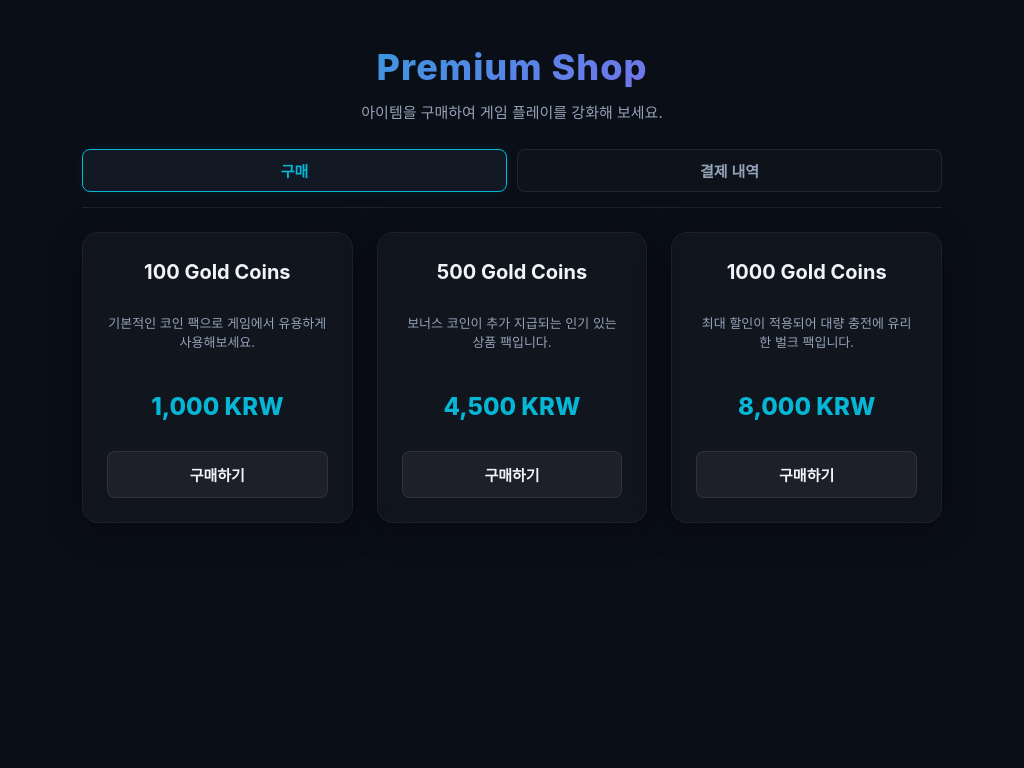
Test: Payment Component › renders product items and purchases when the payment completes
This screenshot has width=1024, height=768.
Expected: the heading "100 Gold Coins" is shown, [144,256,291,286]
구매 버튼 클릭
Step 1. Click the button "구매하기" below "1,000" → (217,474), box [107,450,328,498]
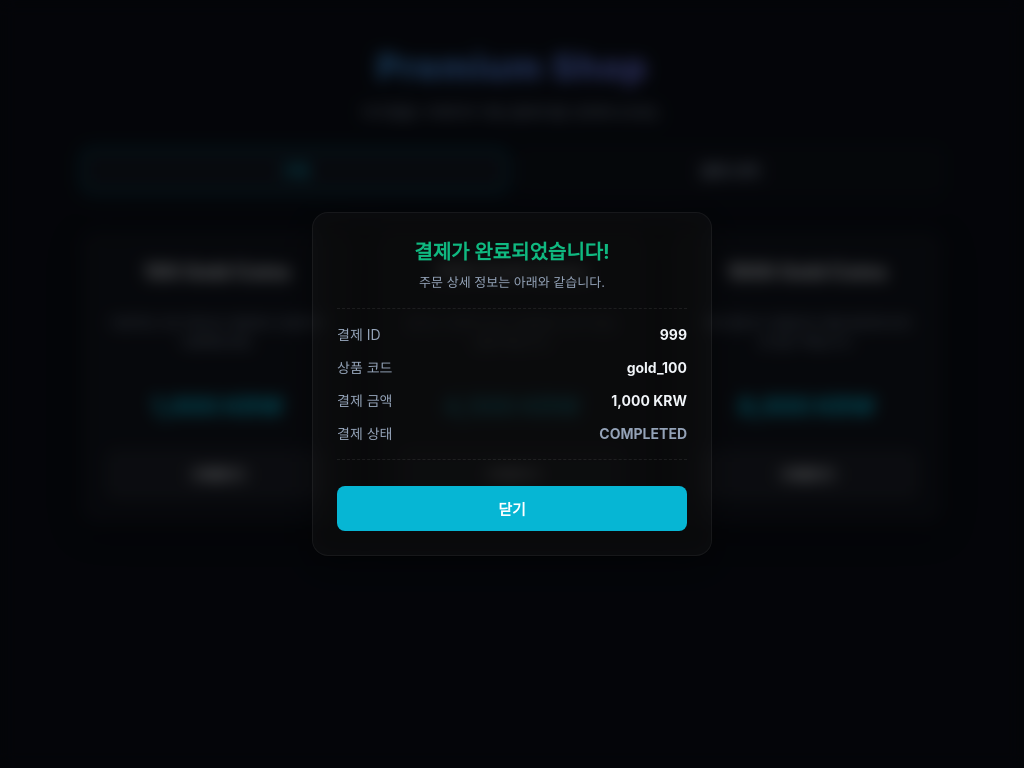
Now the heading "결제가 완료되었습니다!" is shown, box [414,240,610,264]
Now the text "999" is shown, box [660,324,687,345]
Now the text "상품 코드" is shown, box [337,357,392,378]
